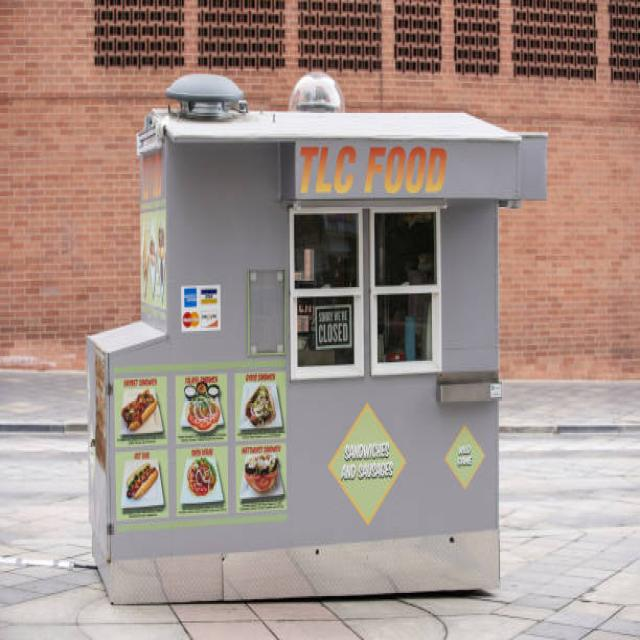Emperan: (82, 54, 556, 614)
